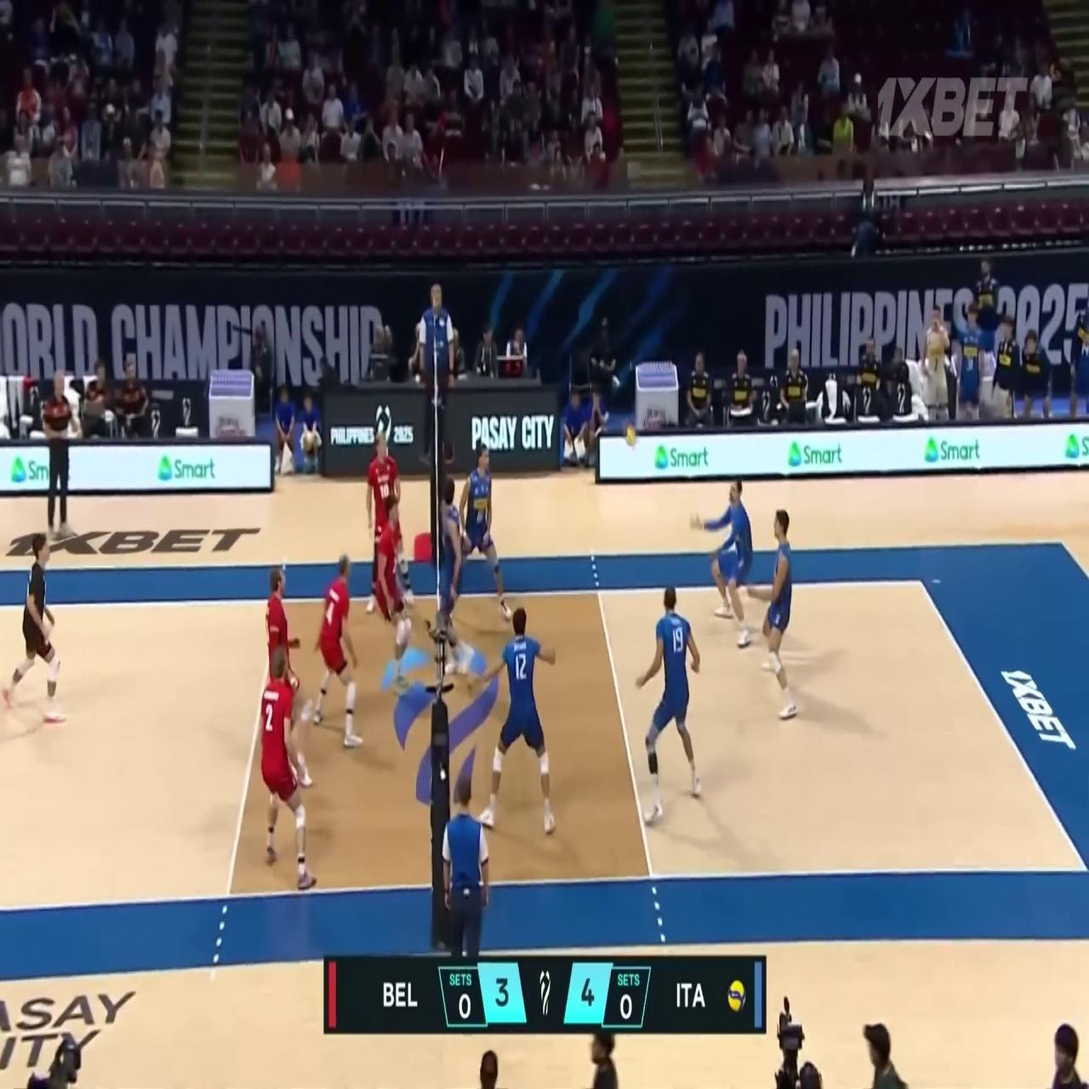ball: (625, 425, 637, 448)
